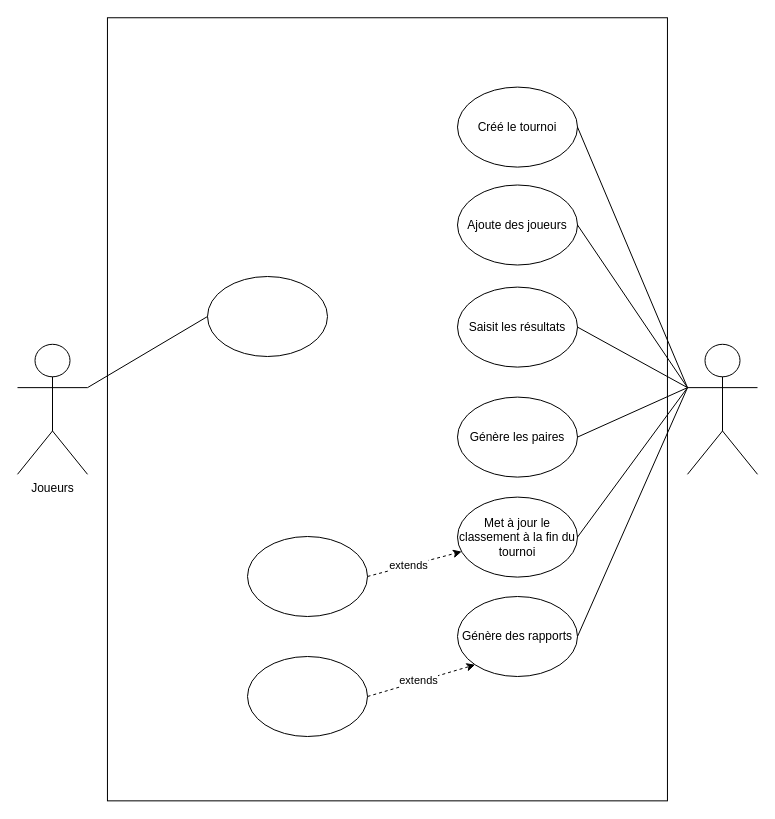
Image size: 775x819. Some labels were removed from this diagram. Here are the shapes that lost their labels. From the top down, the centre of each, then its label:
point 267,316: Participe au tournoi
point 722,408: Gestionnaire
point 307,576: Mettre à jour à tout moment
point 307,696: Exporter les rapports
